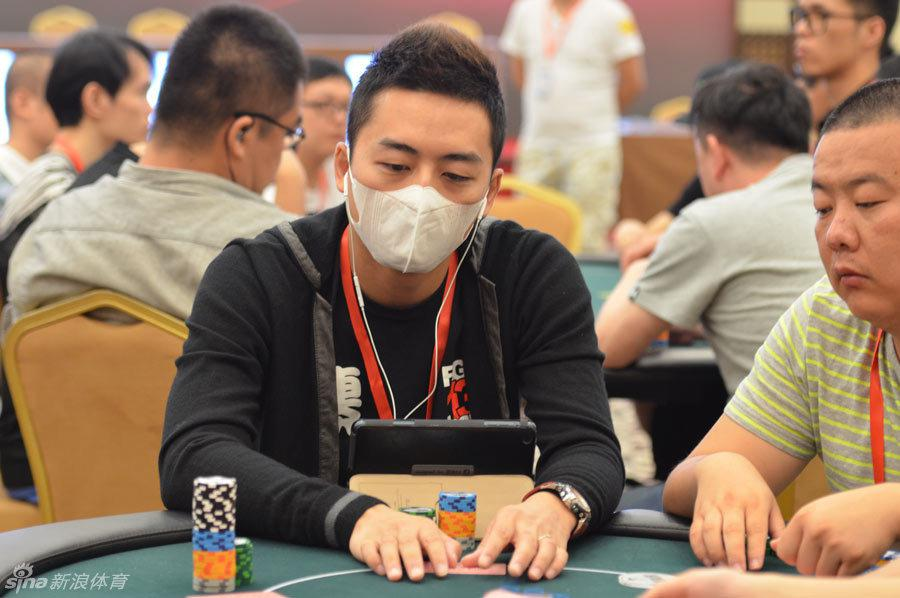NONE: (812, 161, 900, 310), (222, 94, 300, 197), (793, 2, 871, 81), (296, 84, 351, 157), (106, 68, 156, 142)
OK: (350, 132, 488, 270)
